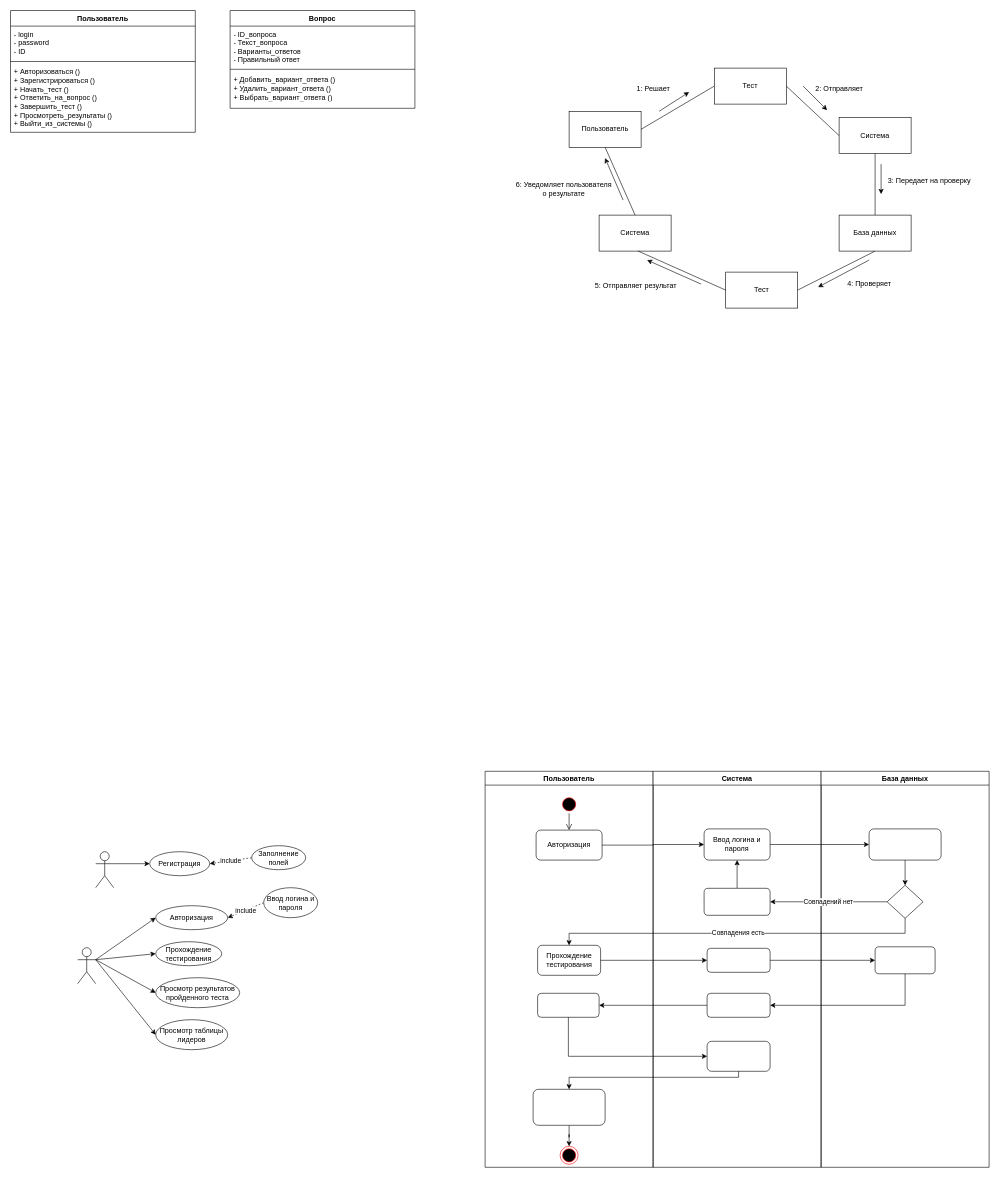
This 1000x1178 diagram has some shape labels left out. Here are the shapes that lost their labels. From the top down, the centre of each, then its label:
At (904,844): "Проверка на соответствие".
At (104,869): "Неавторизованный пользователь".
At (737,901): "Вывод сообщения".
At (86,965): "Авторизованный пользователь".
At (738,960): "Отправка теста на проверку".
At (904,960): "Проверка данных".
At (568,1005): "Открытие таблицы лидеров".
At (738,1005): "Вывод результата теста".
At (738,1056): "Вывод таблицы на экран".
At (568,1107): "Выход из системы".
